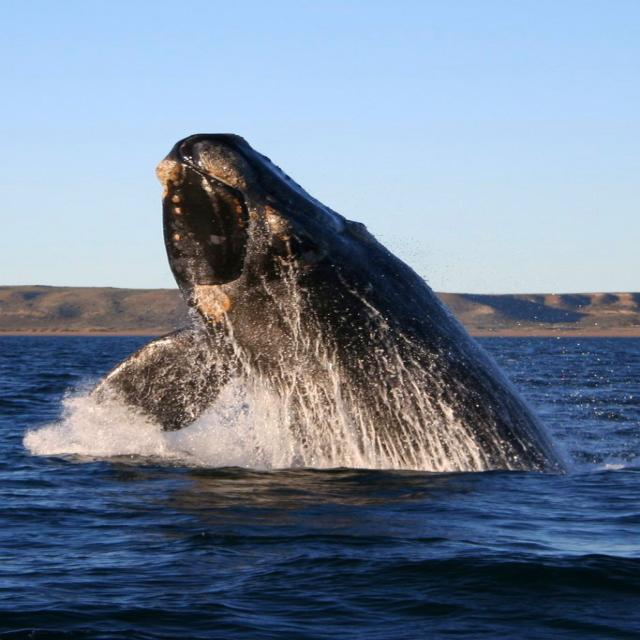whale: (25, 134, 567, 472)
